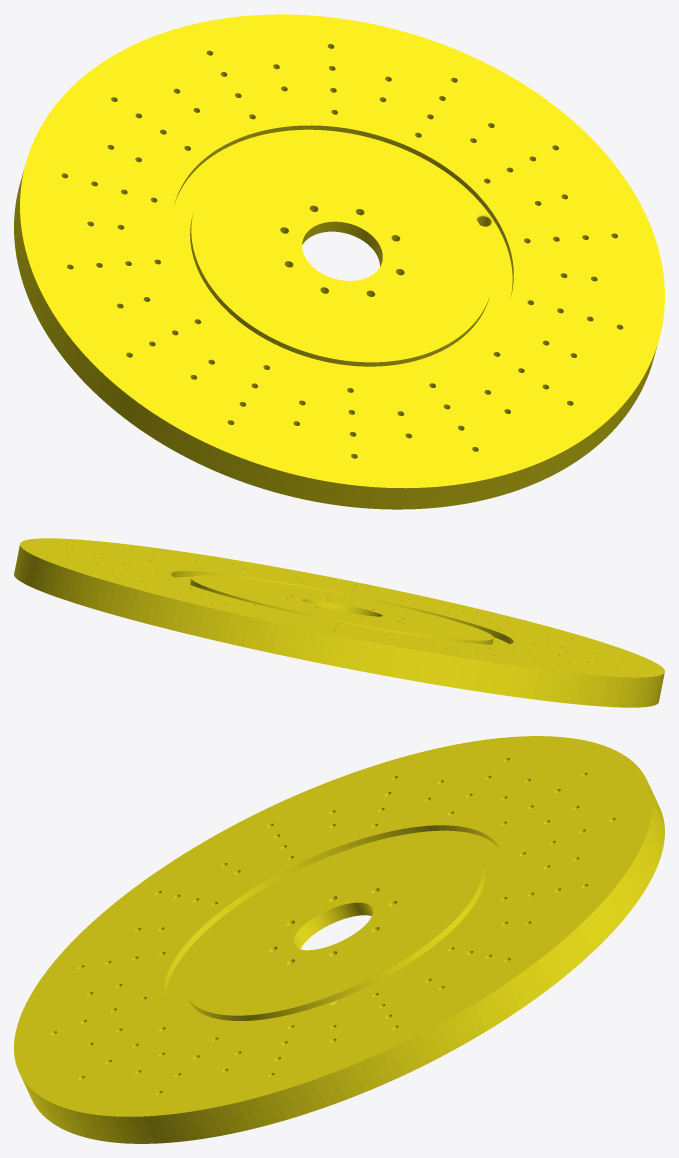
The model's file is top.glb.
3 views of the same model, one above another, from view 1: azimuth 30°, elevation 25°; view 2: azimuth 150°, elevation 25°; view 3: azimuth 270°, elevation 25° (orthographic). The views are drawn at different scales.
Parts seen in each view (by area): view 1: Node1; view 2: Node1; view 3: Node1.
Part boxes in pixels (<box>): Node1: <box>14,14,664,509</box>; Node1: <box>14,538,664,707</box>; Node1: <box>14,736,664,1143</box>.
Size of the model in its own units: 320 by 138 by 301.
